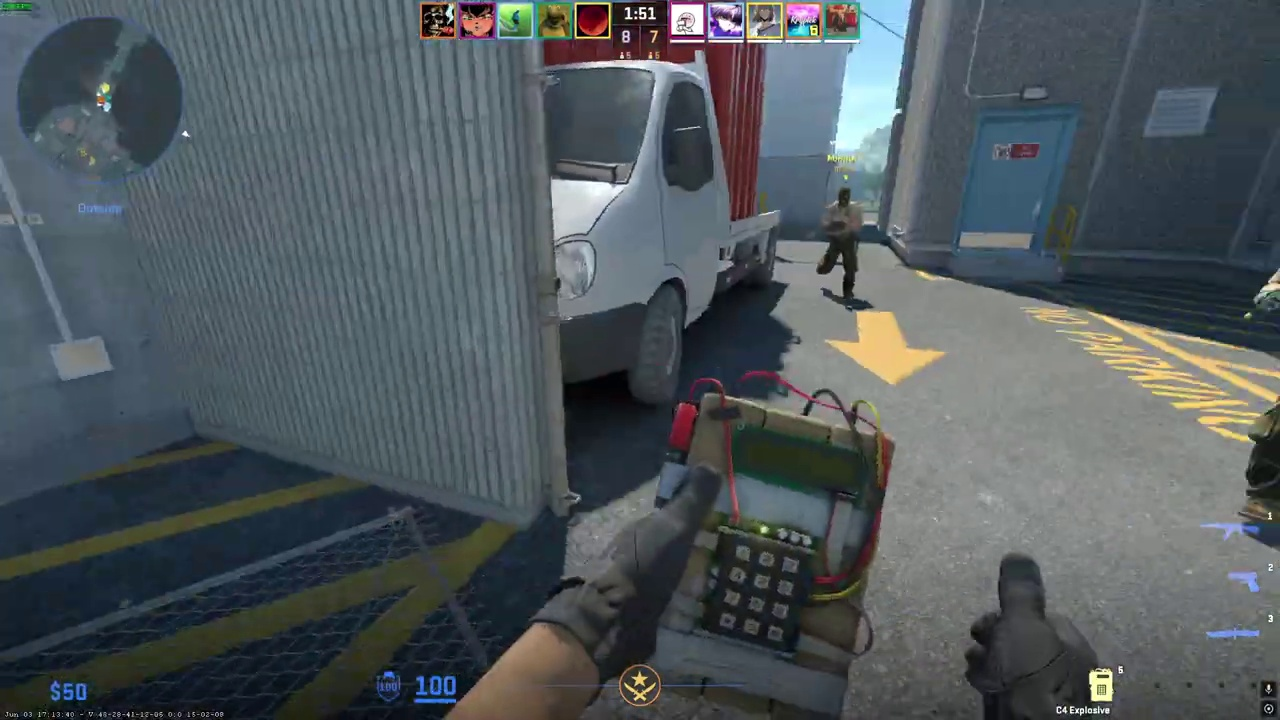Terrorist: (816, 186, 863, 301)
